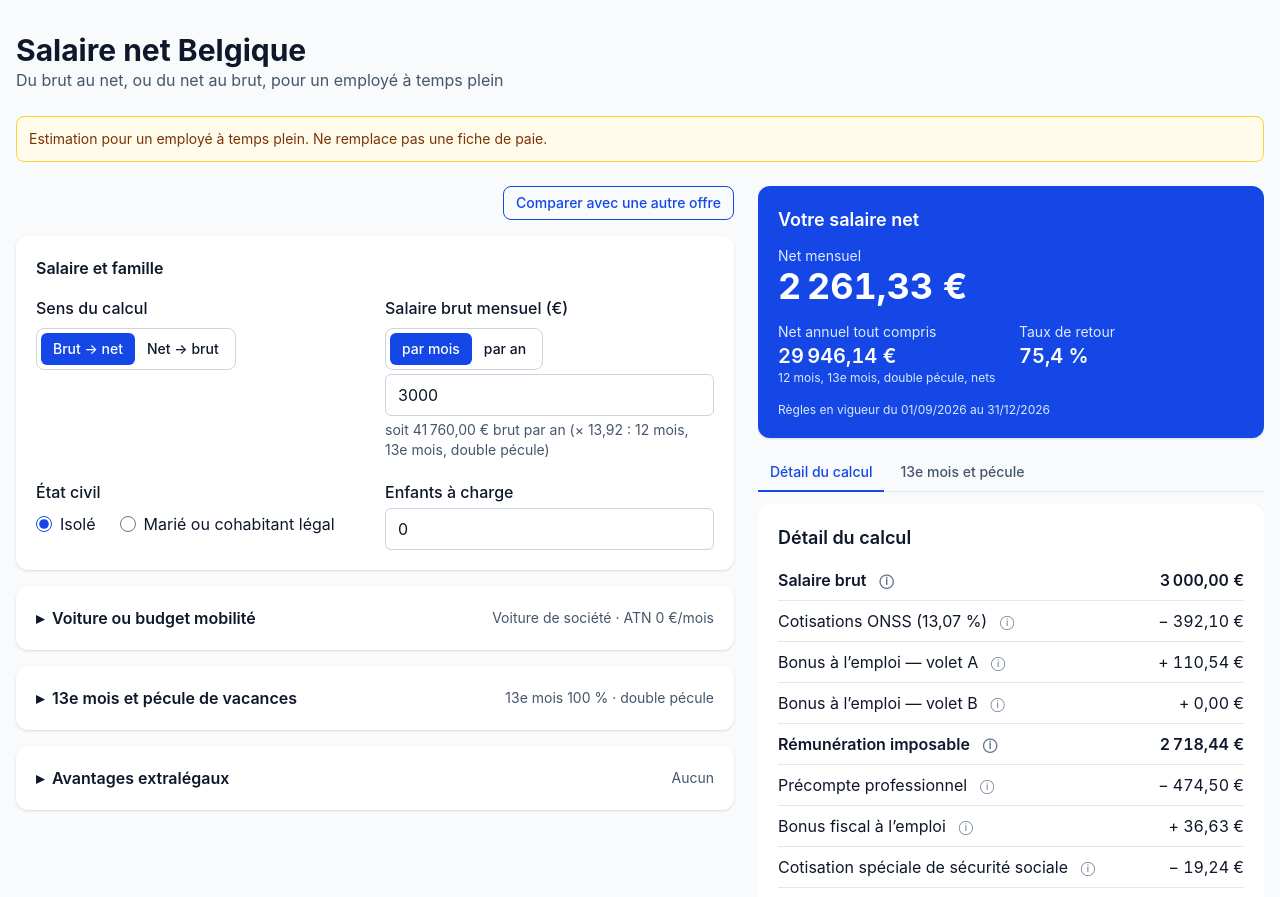
Test case: App › refuse un brut mensuel hors limites avec le message habituel
The width and height of the screenshot is (1280, 897).
Replace the text in the field labelled "Salaire brut mensuel (€)" with "200000": (550, 395) [385,374,714,416]
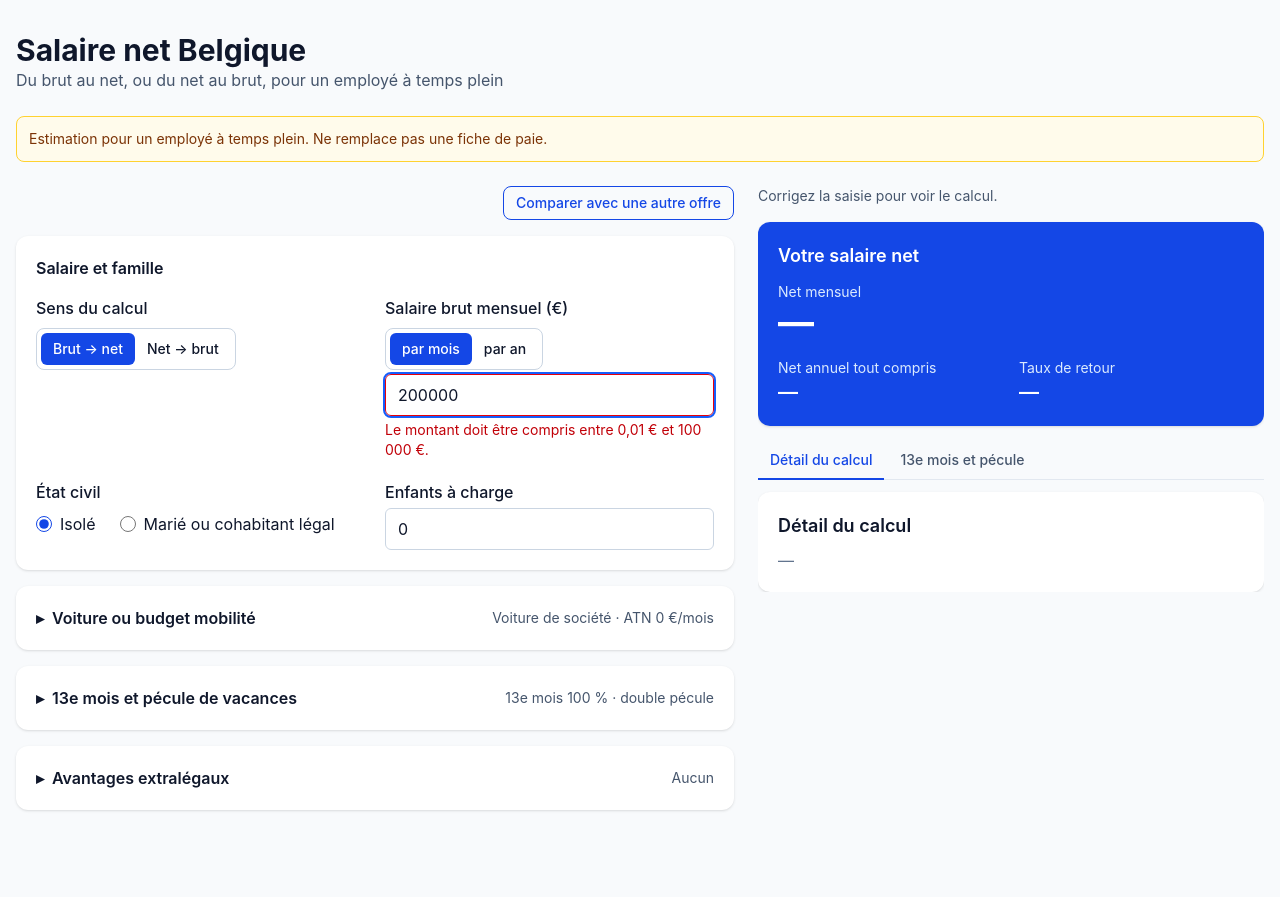
expect the text "Le montant doit être compris entre 0,01 € et 100 000 €." is shown: met, box [385,420,714,460]
